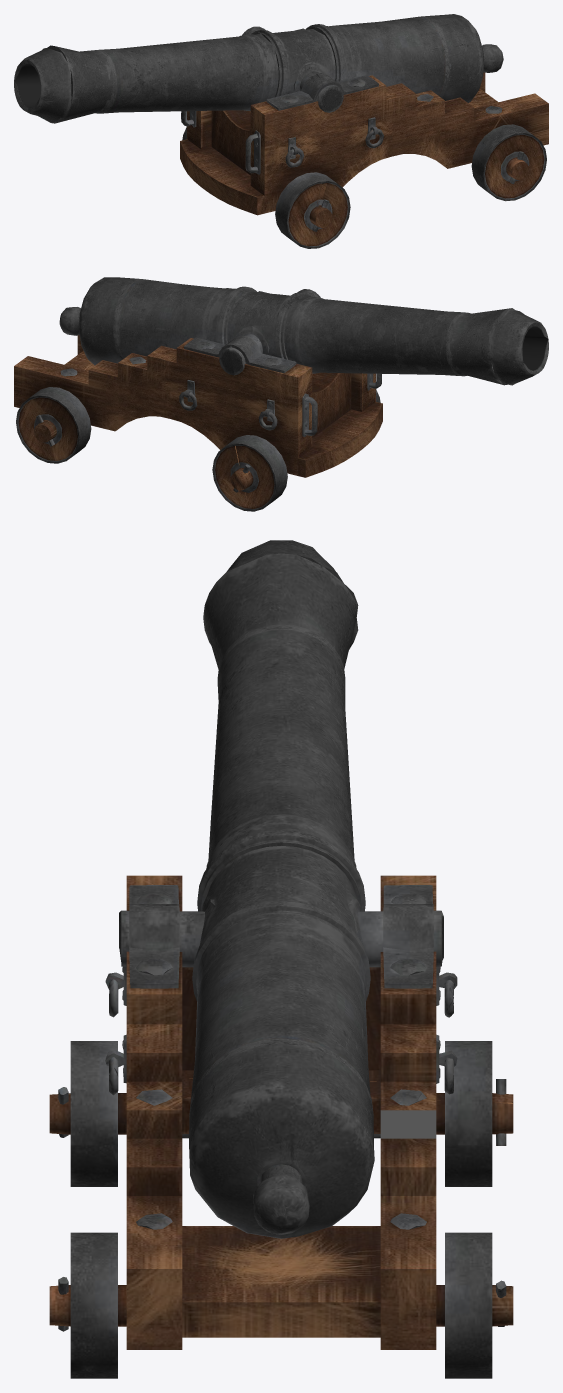
File: 035shipgun_a.FBX
3 views of the same model, one above another, from view 1: azimuth 30°, elevation 25°; view 2: azimuth 150°, elevation 25°; view 3: azimuth 270°, elevation 25° (orthographic). The views are drawn at different scales.
Parts seen in each view (by area): view 1: 035a_2, 035a_3, 035a_1; view 2: 035a_2, 035a_3, 035a_1; view 3: 035a_3, 035a_2, 035a_1.
Boxes of the visible parts, x1,y1,x2,y2 form: 035a_2: (180, 21, 417, 248); 035a_3: (382, 14, 548, 201); 035a_1: (14, 39, 221, 123); 035a_2: (138, 284, 382, 511); 035a_3: (14, 277, 181, 463); 035a_1: (334, 302, 548, 385); 035a_3: (49, 990, 513, 1378); 035a_2: (49, 767, 513, 1186); 035a_1: (203, 540, 358, 827).
Bounding box in the file's own units: 40.78 × 16.84 × 17.
